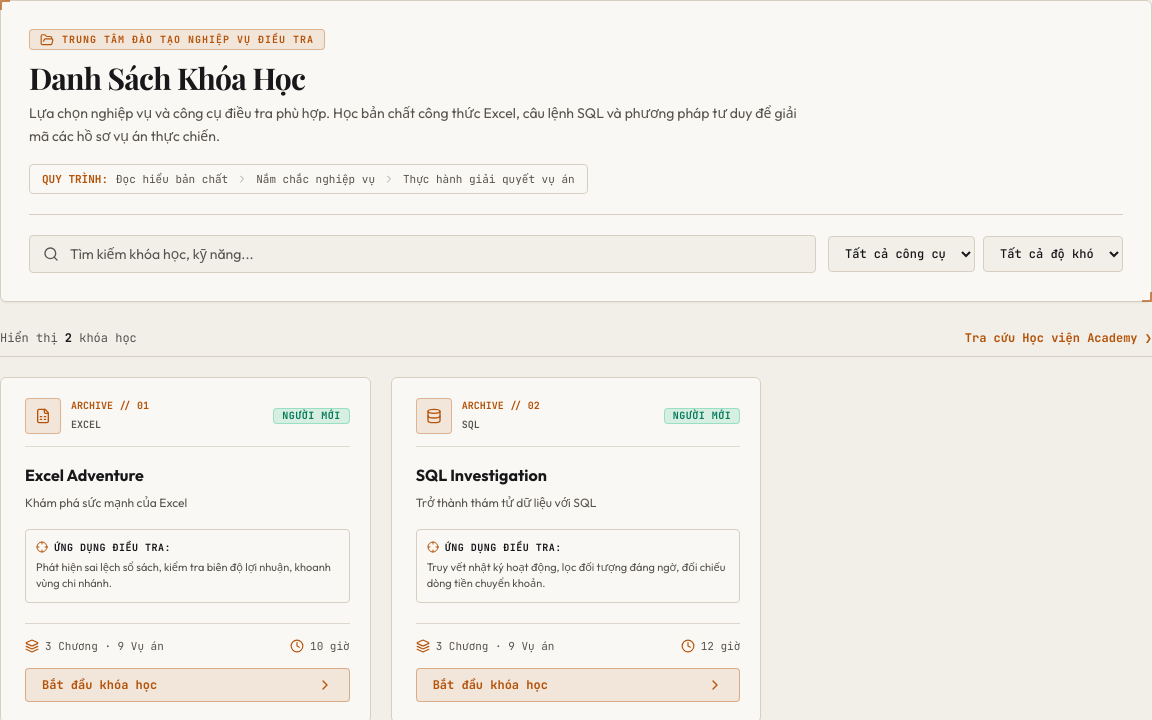
Test: CoursesPage Component Tests › lọc danh sách khóa học theo công cụ (Tool)
Expected: the heading "Excel Adventure" is shown, [25,465,144,485]
# Lọc theo Excel
Select "Excel" in the dropdown named "Lọc theo công cụ" at (902, 254), box [828,236,975,272]
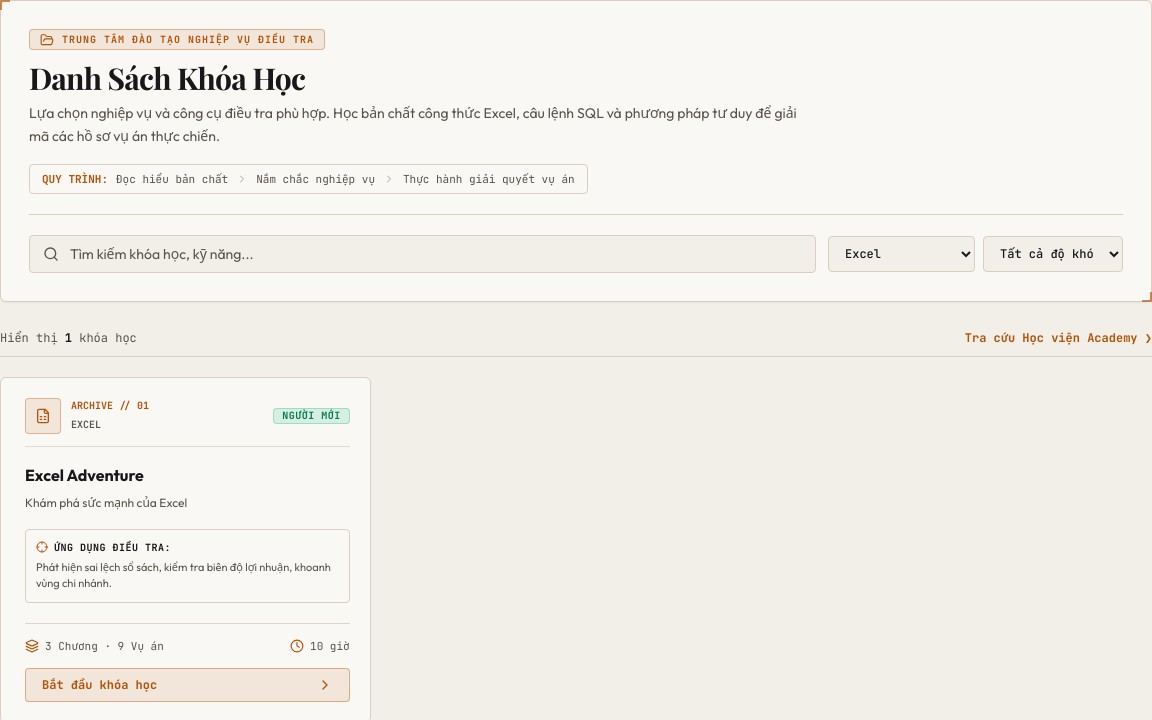
Expected: the heading "Excel Adventure" is shown, [25,465,144,485]
Now the heading "SQL Investigation" is gone
